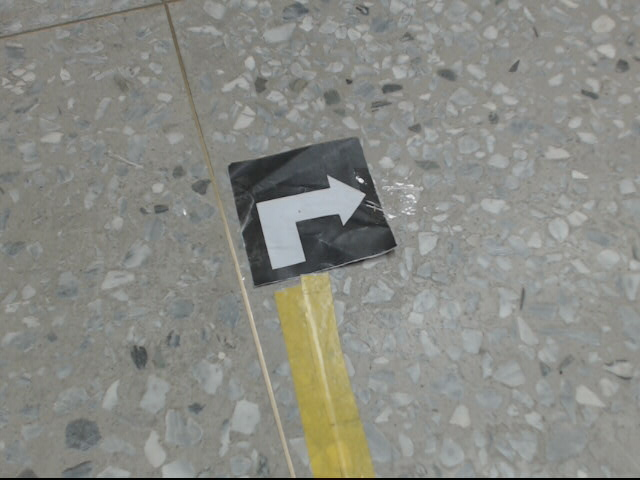right: (229, 135, 404, 288)
